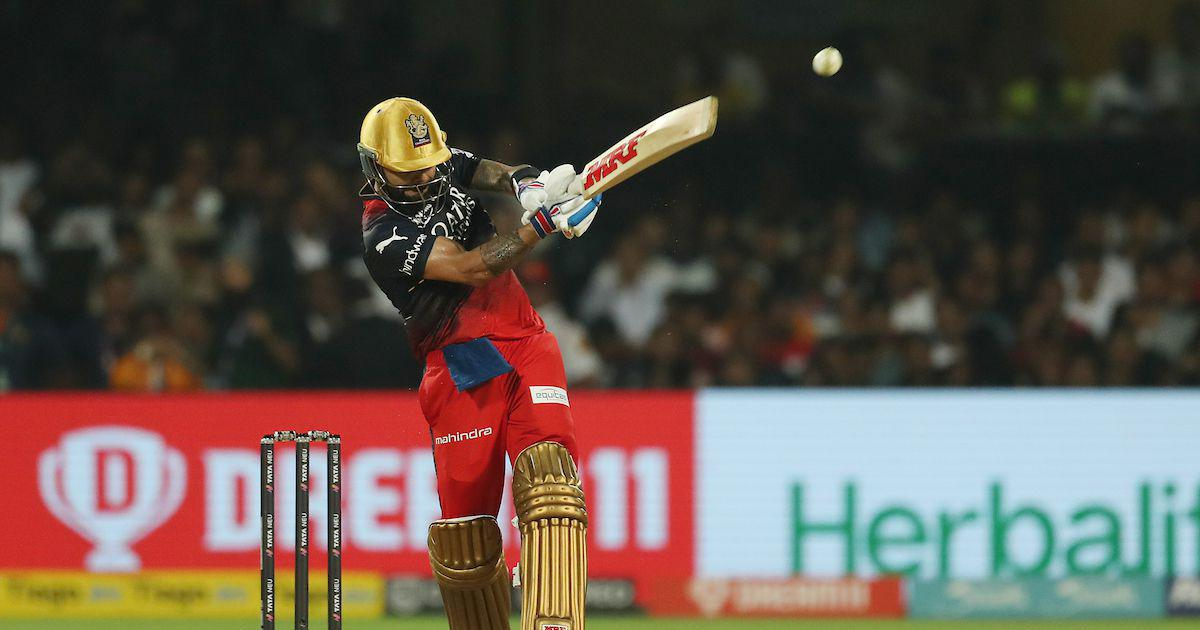Pullshot: (185, 0, 911, 630)
